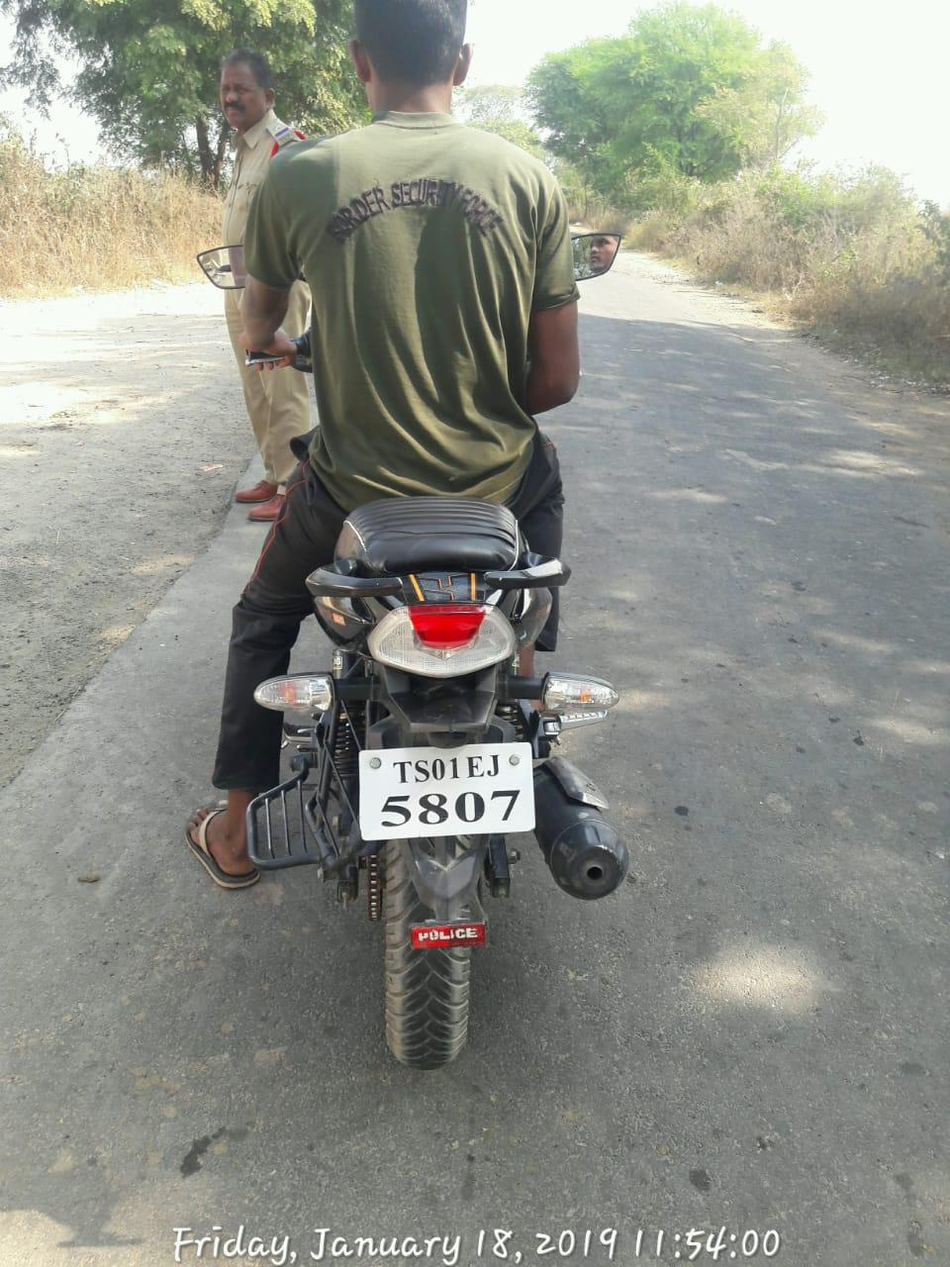plate: (352, 737, 550, 848)
